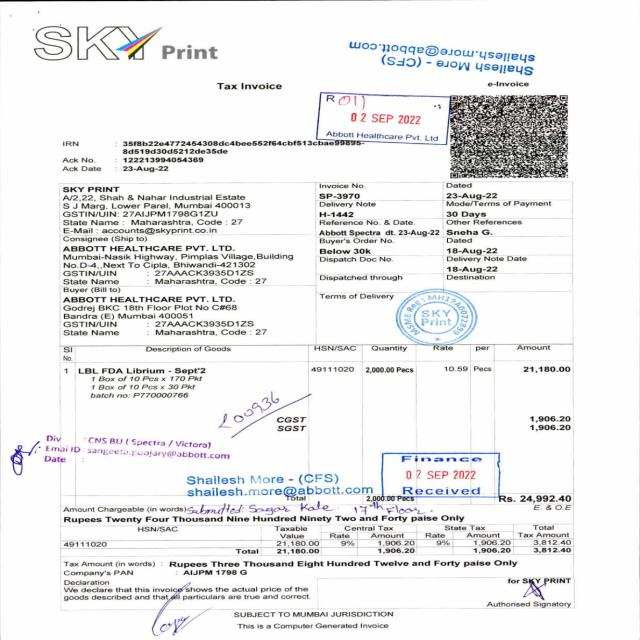QRCode: (449, 94, 571, 180)
